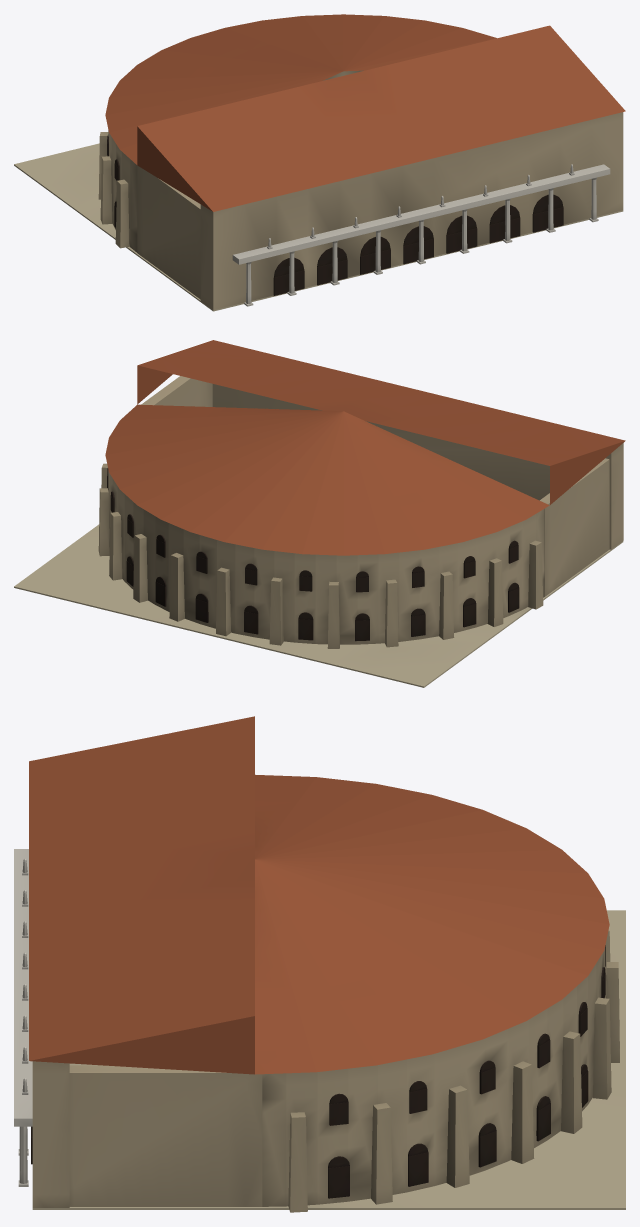
Rendered from odeon.glb.
3 views of the same model, one above another, from view 1: azimuth 30°, elevation 25°; view 2: azimuth 150°, elevation 25°; view 3: azimuth 270°, elevation 25° (orthographic). The views are drawn at different scales.
Parts seen in each view (by area): view 1: p2_roof, p0_walls, p1_windows; view 2: p2_roof, p0_walls, p1_windows; view 3: p2_roof, p0_walls, p1_windows.
Part boxes in pixels (left/top/right/bottom): p2_roof: left=105, top=14, right=625, bottom=249; p0_walls: left=14, top=112, right=623, bottom=311; p1_windows: left=98, top=132, right=610, bottom=306; p2_roof: left=105, top=340, right=625, bottom=555; p0_walls: left=14, top=376, right=623, bottom=687; p1_windows: left=98, top=463, right=543, bottom=648; p2_roof: left=22, top=716, right=609, bottom=1094; p0_walls: left=32, top=910, right=625, bottom=1209; p1_windows: left=14, top=849, right=619, bottom=1212.
Bounding box in the file's own units: 97.97 × 30 × 82.5.
